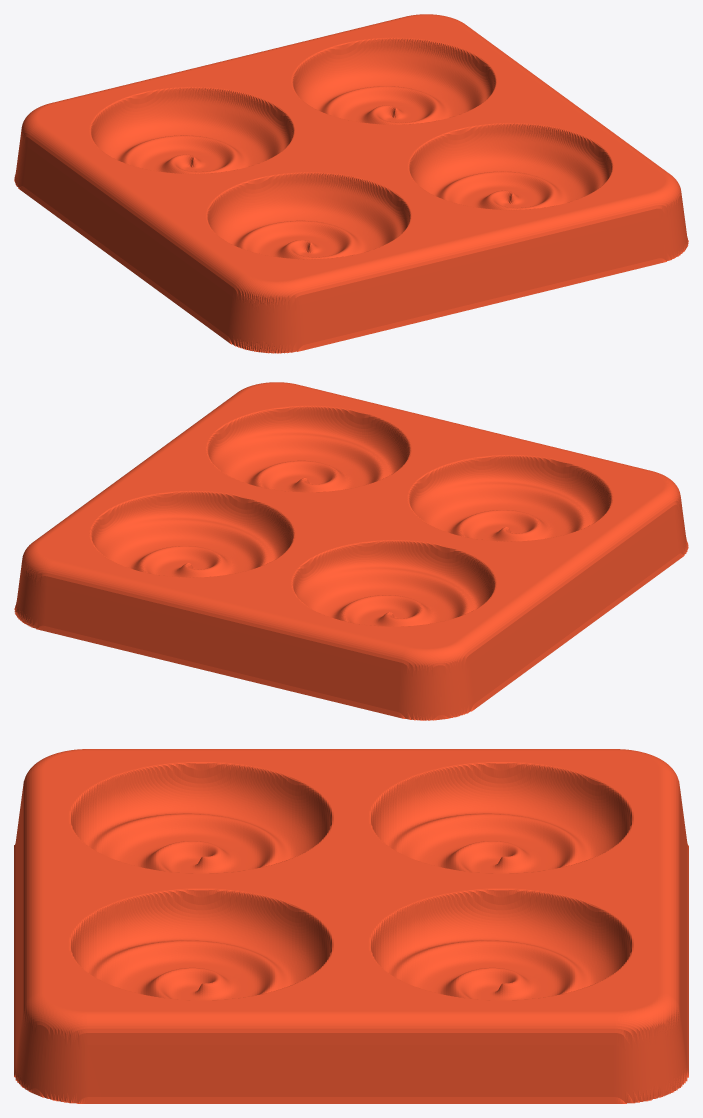
Rendered from mold.glb.
The picture shows the model from 3 angles, top to bottom: view 1: azimuth 30°, elevation 25°; view 2: azimuth 150°, elevation 25°; view 3: azimuth 270°, elevation 25°; orthographic projection. The views are drawn at different scales.
Parts seen in each view (by area): view 1: geometry_0; view 2: geometry_0; view 3: geometry_0.
Part boxes in pixels (x1,y1,x2,y2): geometry_0: (14, 14, 688, 353); geometry_0: (14, 382, 688, 720); geometry_0: (14, 749, 688, 1103).
Bounding box in the file's own units: 0.0828 × 0.0108 × 0.0828.
